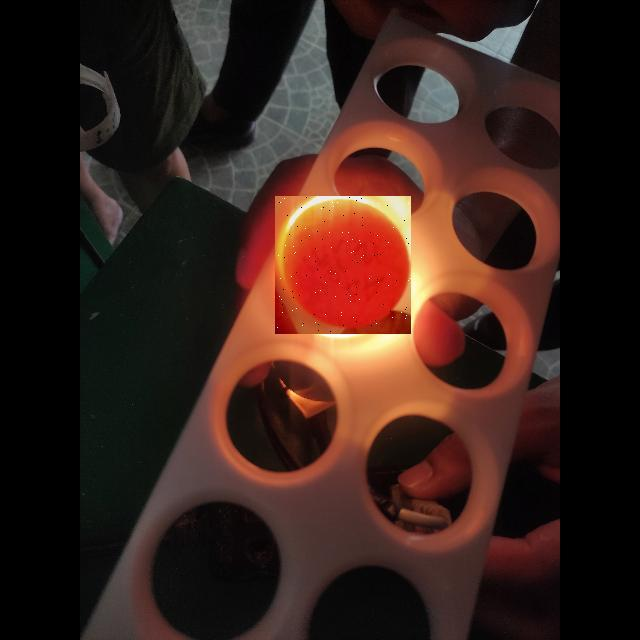Infertile: (275, 196, 411, 334)
